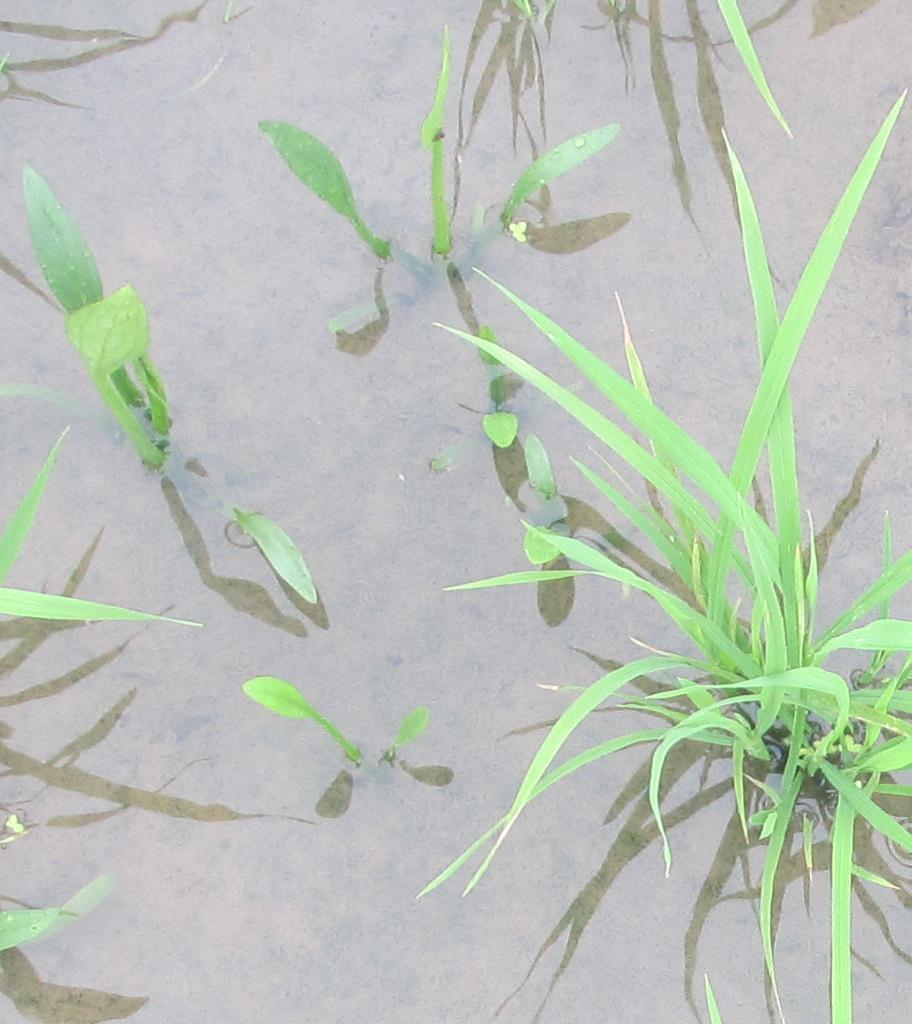Weed: (258, 97, 633, 267), (16, 160, 172, 460)
